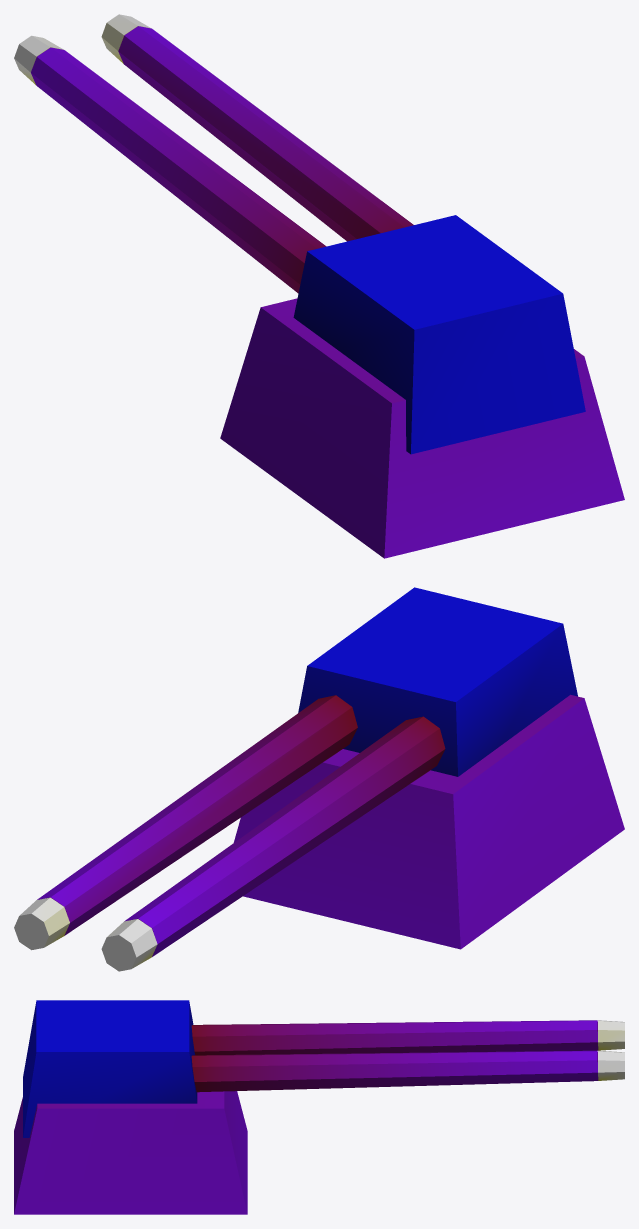
The model's file is module_heavy_battery.fbx.
The picture shows the model from 3 angles, top to bottom: view 1: azimuth 30°, elevation 25°; view 2: azimuth 150°, elevation 25°; view 3: azimuth 270°, elevation 25°; orthographic projection. The views are drawn at different scales.
Parts seen in each view (by area): view 1: module_heavy_battery; view 2: module_heavy_battery; view 3: module_heavy_battery.
Boxes of the visible parts, x1=… form: module_heavy_battery: x1=14, y1=14, x2=624, y2=558; module_heavy_battery: x1=14, y1=587, x2=624, y2=971; module_heavy_battery: x1=14, y1=1000, x2=624, y2=1214.
Size of the model in its own units: 0.11 by 0.09 by 0.34.
